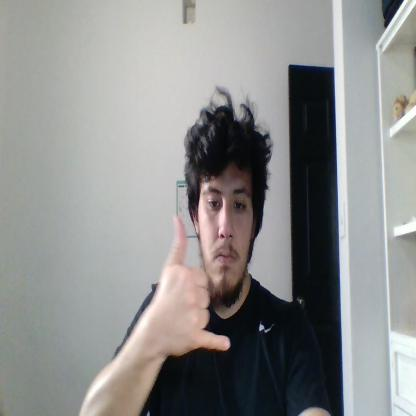Y: (155, 215, 230, 355)
